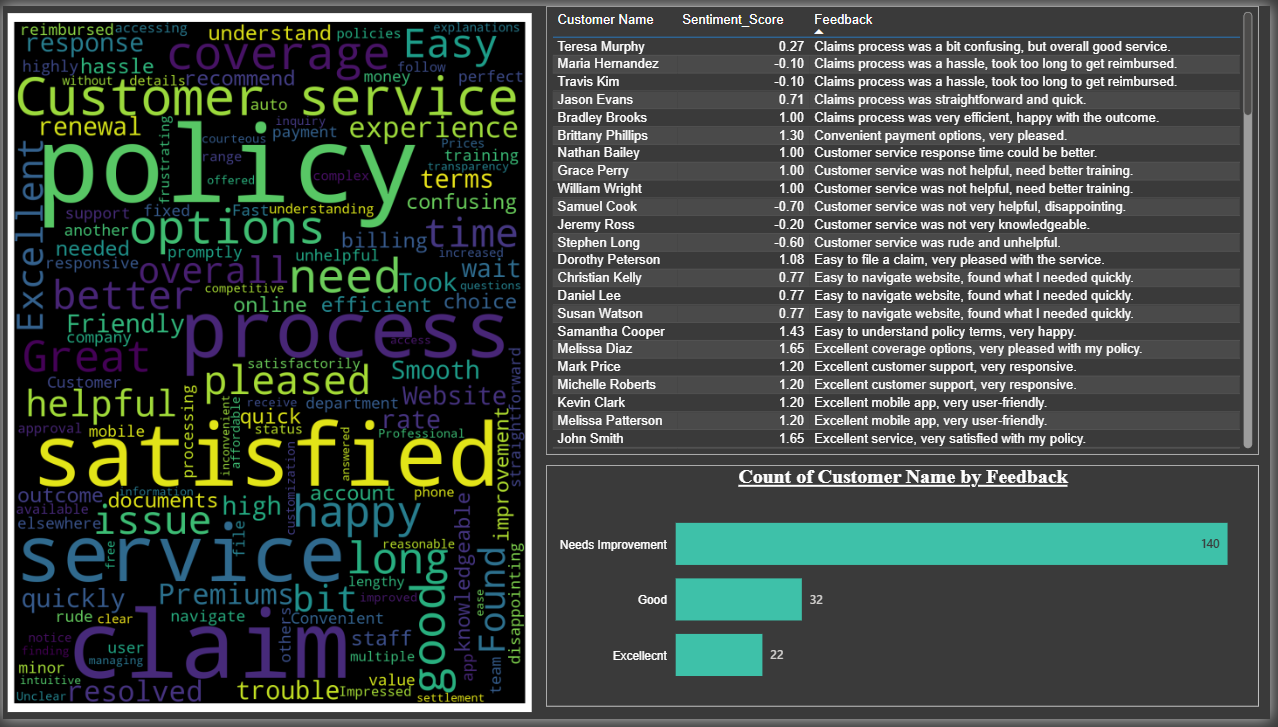

The page's visual inventory and layout, read from the dashboard file:
{"tool":"powerbi","page":{"name":"Customer Sentiment Analysis","canvas":[1280,720],"ordinal":1},"visuals":[{"type":"pythonVisual","fields":{"Values":["Insurance Customer Feedback.Feedback"]},"box":[0,0,539.2,720.5],"z":0},{"type":"barChart","title":"Count of Customer Name by Feedback","fields":{"Category":["Insurance Customer Feedback.Good/Improvement"],"Y":["CountNonNull(Insurance Customer Feedback.Customer Name)"]},"box":[548.5,463.6,719.7,243.9],"z":1},{"type":"tableEx","fields":{"Values":["Insurance Customer Feedback.Customer Name","Sum(Insurance Customer Feedback.Sentiment_Score)","Insurance Customer Feedback.Feedback"]},"box":[548.5,0,719.7,453],"z":2}]}

Visuals, with their boxes in screenshot pixels (x1, y1, x2, y2), scaled from the page's 1280x720 canvas onto the 1278x727 screenshot:
pythonVisual - Insurance Customer Feedback.Feedback: x1=0 y1=0 x2=538 y2=726
"Count of Customer Name by Feedback" barChart: x1=548 y1=468 x2=1266 y2=714
tableEx - Insurance Customer Feedback.Customer Name x Sum(Insurance Customer Feedback.Sentiment_Score): x1=548 y1=0 x2=1266 y2=457
